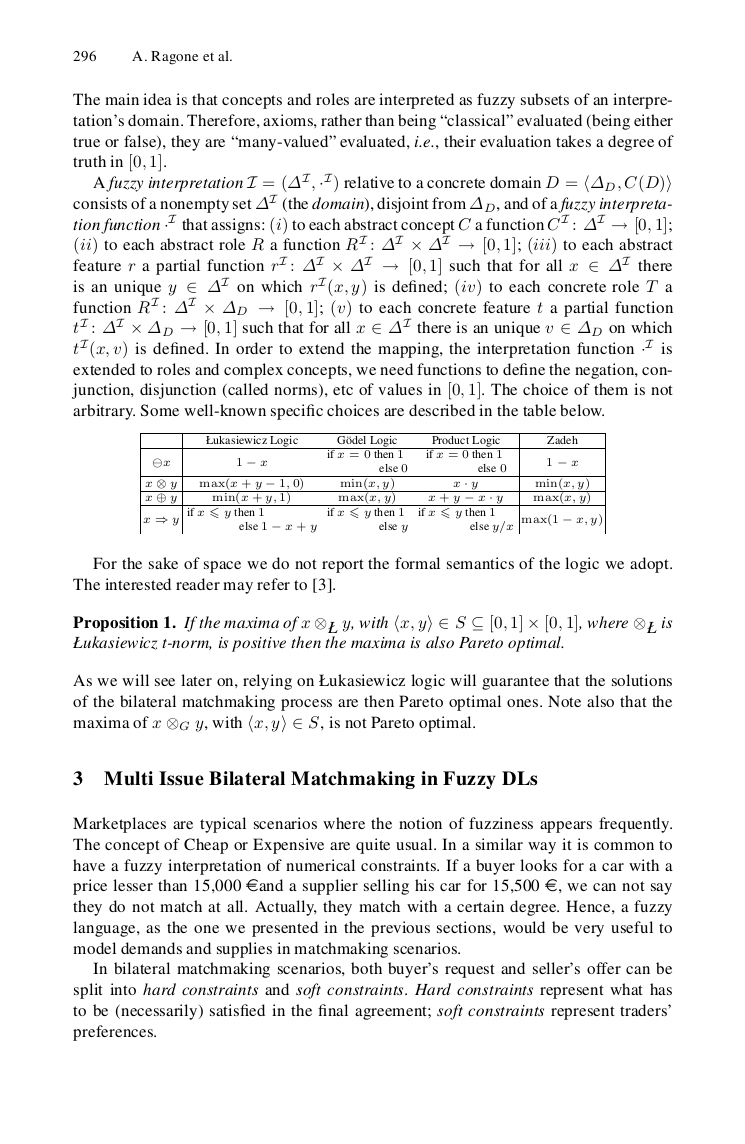Table: (140, 431, 605, 534)
